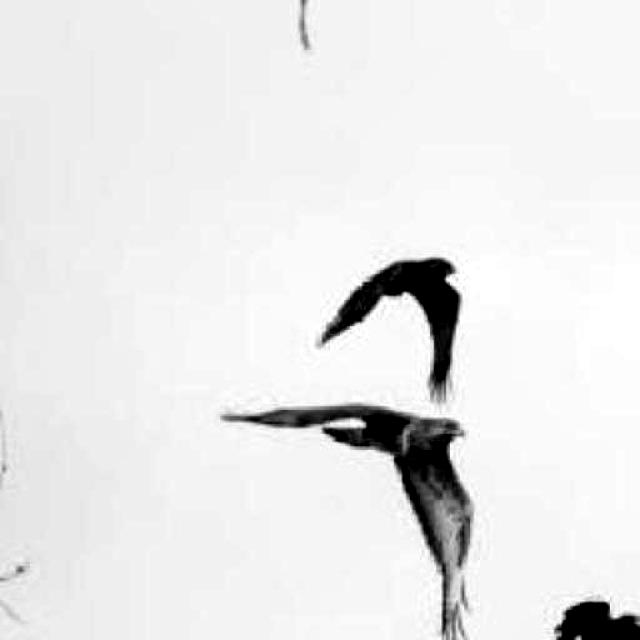airplane: (224, 406, 470, 640), (324, 252, 460, 410), (265, 0, 425, 48), (555, 598, 640, 640)
